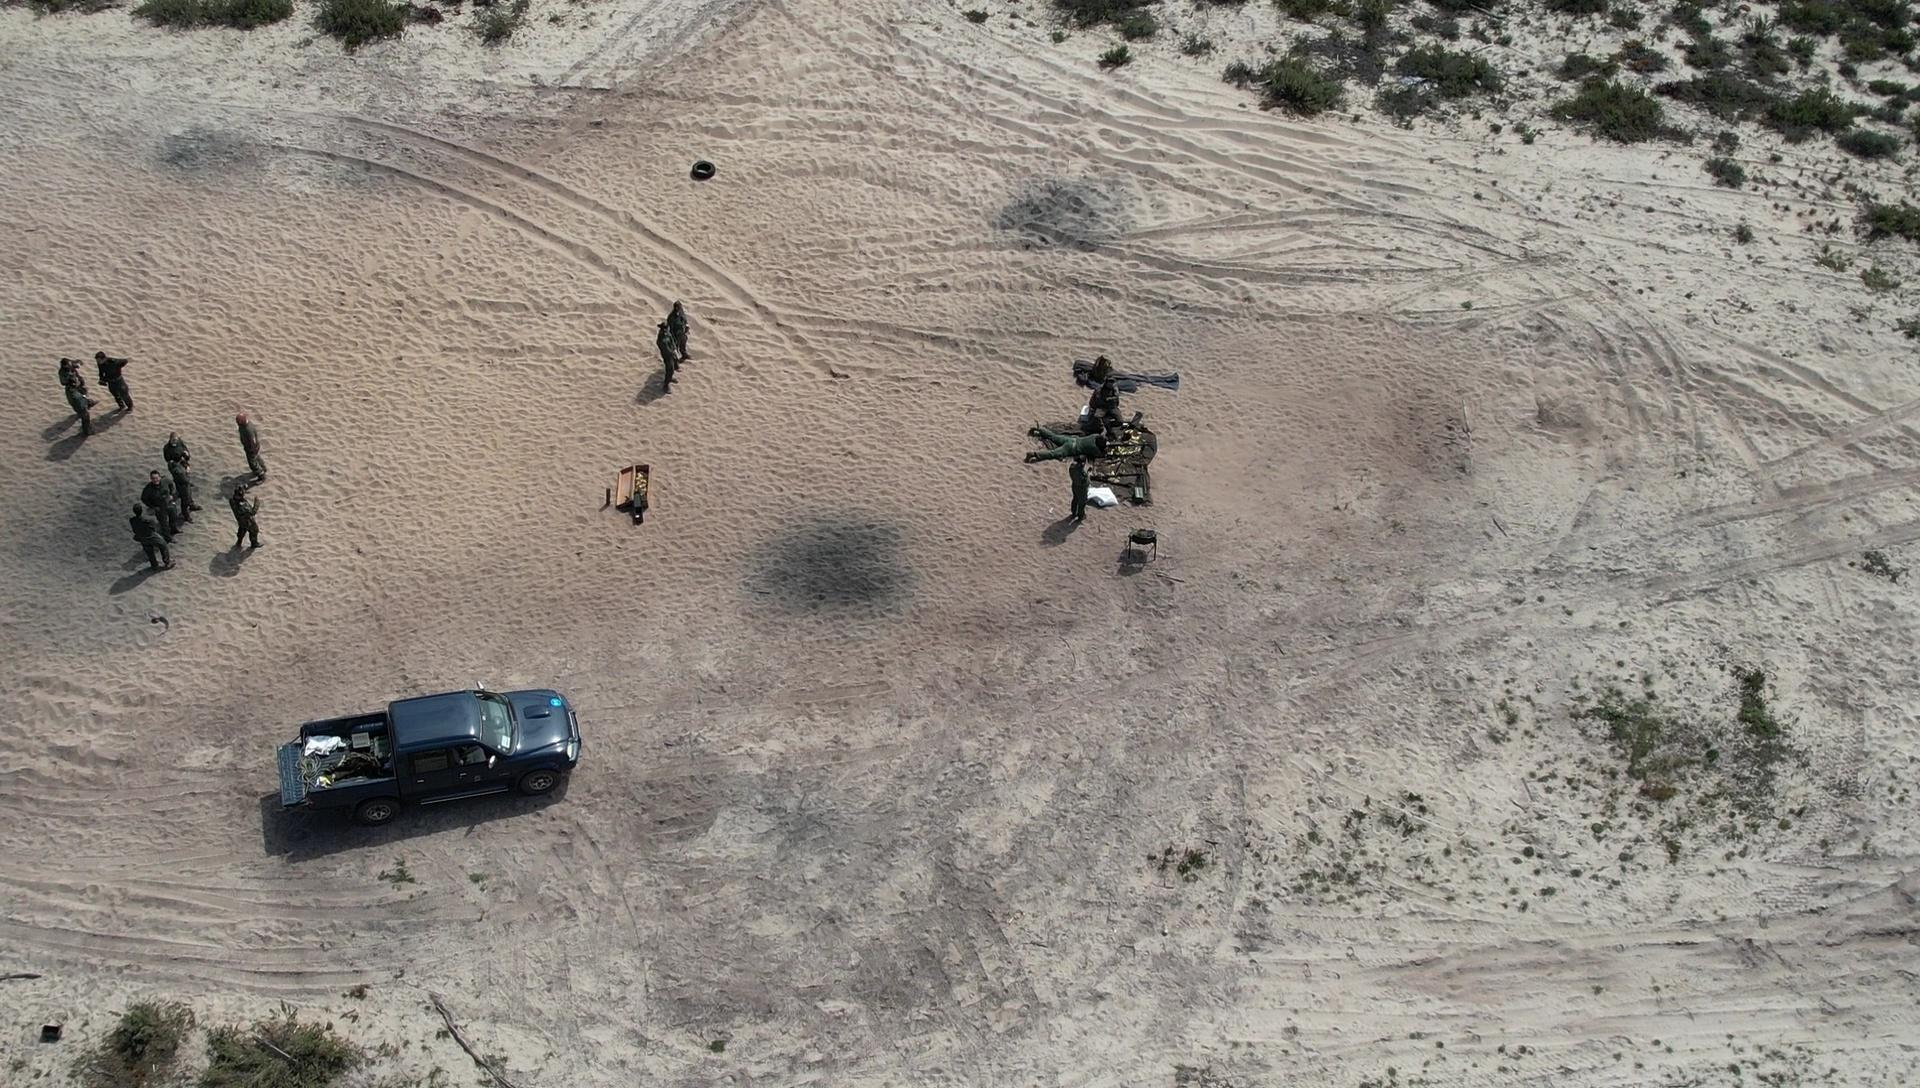Soldier: (88, 349, 145, 429), (219, 481, 274, 558), (229, 419, 276, 499), (162, 433, 208, 512), (1036, 422, 1120, 466), (1065, 459, 1102, 535), (654, 306, 691, 382), (1081, 389, 1124, 454), (53, 371, 98, 429), (136, 508, 179, 567), (655, 310, 691, 372), (144, 469, 185, 502)
